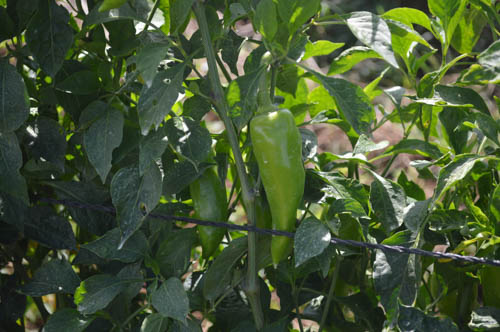ChiliPepper: (250, 111, 306, 266), (191, 170, 227, 260)
